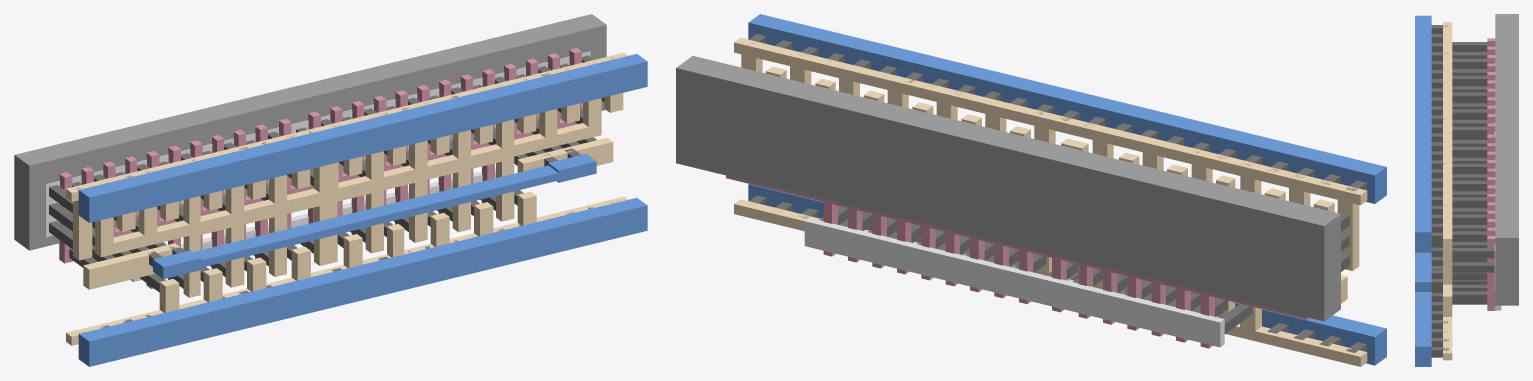
File: sky130_fd_sc_hd__clkinv_16.gds.gltf
The picture shows the model from 3 angles, left to right: view 1: azimuth 30°, elevation 25°; view 2: azimuth 150°, elevation 25°; view 3: azimuth 270°, elevation 25°; orthographic projection. The views are drawn at different scales.
Visible parts, largest first — view 1: sky130_fd_sc_hd__clkinv_16_met1, sky130_fd_sc_hd__clkinv_16_li1, sky130_fd_sc_hd__clkinv_16_nwell, sky130_fd_sc_hd__clkinv_16_poly, sky130_fd_sc_hd__clkinv_16_licon, sky130_fd_sc_hd__clkinv_16_diff, sky130_fd_sc_hd__clkinv_16_mcon; view 2: sky130_fd_sc_hd__clkinv_16_nwell, sky130_fd_sc_hd__clkinv_16_li1, sky130_fd_sc_hd__clkinv_16_met1, sky130_fd_sc_hd__clkinv_16_diff, sky130_fd_sc_hd__clkinv_16_poly, sky130_fd_sc_hd__clkinv_16_mcon, sky130_fd_sc_hd__clkinv_16_licon; view 3: sky130_fd_sc_hd__clkinv_16_licon, sky130_fd_sc_hd__clkinv_16_nwell, sky130_fd_sc_hd__clkinv_16_met1, sky130_fd_sc_hd__clkinv_16_mcon, sky130_fd_sc_hd__clkinv_16_li1, sky130_fd_sc_hd__clkinv_16_poly, sky130_fd_sc_hd__clkinv_16_diff.
Boxes of the visible parts, x1,y1,x2,y2 form: sky130_fd_sc_hd__clkinv_16_met1: (78,54,647,366); sky130_fd_sc_hd__clkinv_16_li1: (66,52,628,345); sky130_fd_sc_hd__clkinv_16_nwell: (14,14,606,250); sky130_fd_sc_hd__clkinv_16_poly: (59,48,581,288); sky130_fd_sc_hd__clkinv_16_licon: (49,55,604,292); sky130_fd_sc_hd__clkinv_16_diff: (45,51,590,281); sky130_fd_sc_hd__clkinv_16_mcon: (76,57,619,332); sky130_fd_sc_hd__clkinv_16_nwell: (676,56,1340,321); sky130_fd_sc_hd__clkinv_16_li1: (734,37,1367,366); sky130_fd_sc_hd__clkinv_16_met1: (748,14,1386,365); sky130_fd_sc_hd__clkinv_16_diff: (804,218,1224,347); sky130_fd_sc_hd__clkinv_16_poly: (726,175,1308,348); sky130_fd_sc_hd__clkinv_16_mcon: (749,34,1366,352); sky130_fd_sc_hd__clkinv_16_licon: (744,67,1349,333); sky130_fd_sc_hd__clkinv_16_licon: (1452,42,1494,304); sky130_fd_sc_hd__clkinv_16_nwell: (1495,14,1518,305); sky130_fd_sc_hd__clkinv_16_met1: (1415,15,1431,366); sky130_fd_sc_hd__clkinv_16_mcon: (1431,25,1448,357); sky130_fd_sc_hd__clkinv_16_li1: (1443,22,1452,360); sky130_fd_sc_hd__clkinv_16_poly: (1487,38,1495,310); sky130_fd_sc_hd__clkinv_16_diff: (1494,132,1501,310).
Bounding box in the file's own units: 11.42 × 3.2 × 2.24.
